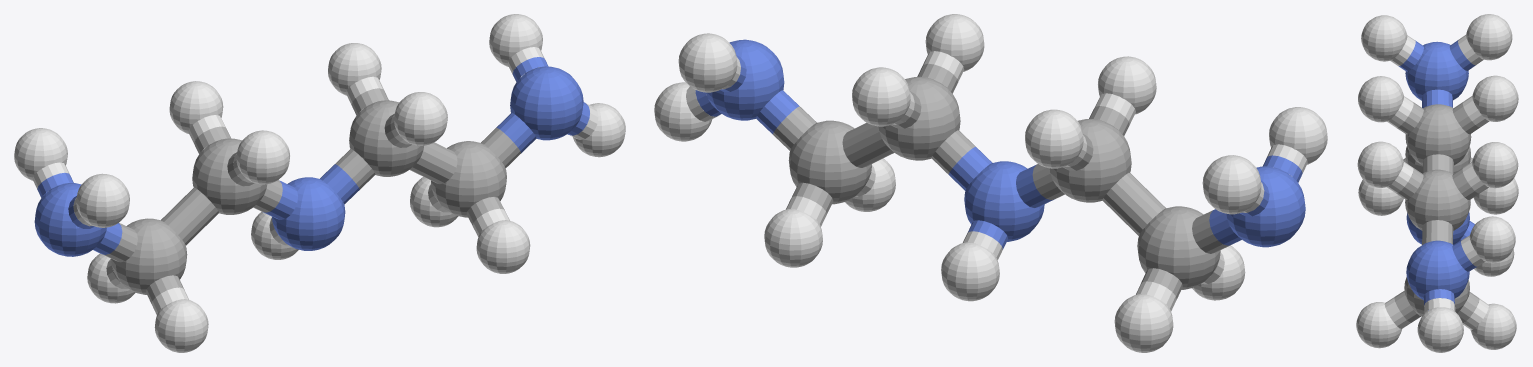
The model's file is DIETHYLENETRIAMINE.fbx.
3 views of the same model, side by side, from view 1: azimuth 30°, elevation 25°; view 2: azimuth 150°, elevation 25°; view 3: azimuth 270°, elevation 25° (orthographic). The views are drawn at different scales.
Parts seen in each view (by area): view 1: ShapeSphere.001, ShapeSphere, ShapeSphere.005, ShapeSphere.006, ShapeSphere.003, ShapeSphere.004, ShapeSphere.002, ShapeSphere.010, ShapeSphere.007, ShapeSphere.019, ShapeSphere.013, ShapeSphere.014 (+26 smaller); view 2: ShapeSphere.005, ShapeSphere.006, ShapeSphere, ShapeSphere.003, ShapeSphere.004, ShapeSphere.002, ShapeSphere.001, ShapeSphere.018, ShapeSphere.008, ShapeSphere.009, ShapeSphere.016, ShapeSphere.015 (+28 smaller); view 3: ShapeSphere.004, ShapeSphere.003, ShapeSphere.001, ShapeSphere.002, ShapeSphere.017, ShapeSphere.018, ShapeSphere.019, ShapeSphere.016, ShapeSphere.008, ShapeSphere.007, ShapeSphere.009, ShapeSphere.010 (+31 smaller).
Boxes of the visible parts, <box> form: ShapeSphere.001: <box>510,66,583,140</box>; ShapeSphere: <box>272,177,345,250</box>; ShapeSphere.005: <box>431,141,506,217</box>; ShapeSphere.006: <box>111,218,187,294</box>; ShapeSphere.003: <box>349,100,423,176</box>; ShapeSphere.004: <box>192,138,267,214</box>; ShapeSphere.002: <box>34,183,106,256</box>; ShapeSphere.010: <box>236,130,289,184</box>; ShapeSphere.007: <box>394,92,447,145</box>; ShapeSphere.019: <box>76,173,129,227</box>; ShapeSphere.013: <box>476,220,530,273</box>; ShapeSphere.014: <box>154,299,208,352</box>; ShapeSphere.005: <box>788,120,871,204</box>; ShapeSphere.006: <box>1137,206,1220,289</box>; ShapeSphere: <box>964,161,1044,241</box>; ShapeSphere.003: <box>878,76,960,160</box>; ShapeSphere.004: <box>1049,119,1131,202</box>; ShapeSphere.002: <box>1226,166,1305,247</box>; ShapeSphere.001: <box>706,39,784,120</box>; ShapeSphere.018: <box>1202,155,1261,214</box>; ShapeSphere.008: <box>852,67,910,126</box>; ShapeSphere.009: <box>1025,109,1083,168</box>; ShapeSphere.016: <box>678,33,737,92</box>; ShapeSphere.015: <box>1114,294,1173,352</box>; ShapeSphere.004: <box>1405,104,1471,165</box>; ShapeSphere.003: <box>1405,169,1470,230</box>; ShapeSphere.001: <box>1406,240,1469,300</box>; ShapeSphere.002: <box>1405,41,1468,100</box>; ShapeSphere.017: <box>1417,307,1463,352</box>; ShapeSphere.018: <box>1466,14,1512,60</box>; ShapeSphere.019: <box>1361,15,1407,61</box>; ShapeSphere.016: <box>1469,216,1515,262</box>; ShapeSphere.008: <box>1472,142,1518,188</box>; ShapeSphere.007: <box>1357,141,1403,187</box>; ShapeSphere.009: <box>1472,75,1518,121</box>; ShapeSphere.010: <box>1358,76,1403,122</box>.
Bounding box in the file's own units: 897 × 291 × 252.
